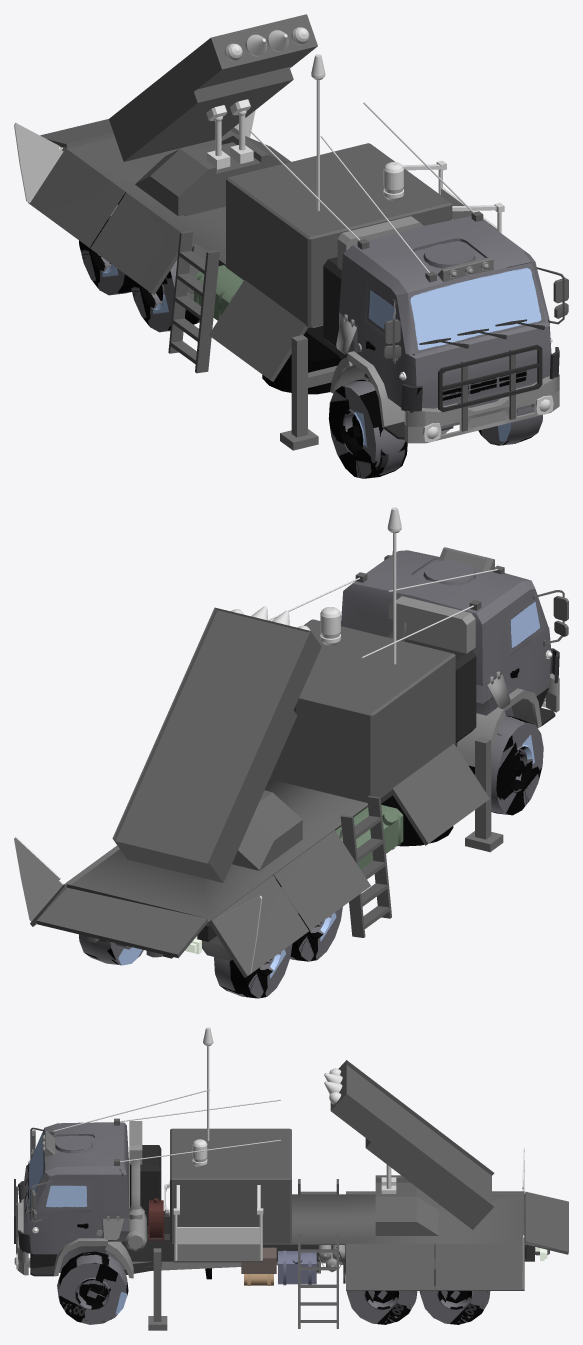
The model's file is only-ladder-deployed.fbx.
3 views of the same model, one above another, from view 1: azimuth 30°, elevation 25°; view 2: azimuth 150°, elevation 25°; view 3: azimuth 270°, elevation 25° (orthographic). The views are drawn at different scales.
Parts seen in each view (by area): view 1: Куб.131, Куб.136, Cube, Cube.002, Цилиндр.051, Cube.001, Cube.008, Куб.096, Cube.016, Cube.011, Cube.007, Цилиндр.053 (+17 smaller); view 2: Cube.002, Куб.136, Cube, Куб.131, Цилиндр.051, Cube.008, Цилиндр.059, Cube.001, Цилиндр.001, Cube.015, Cube.010, Cube.011 (+10 smaller); view 3: Куб.136, Куб.131, Cube, Cube.002, Цилиндр.051, Cube.001, Цилиндр.001, Цилиндр.053, Цилиндр.059, Куб.118, Cube.018, Cube.015 (+16 smaller).
Part boxes in pixels (x1,y1,x2,y2): Куб.131: (339, 216, 559, 428); Куб.136: (28, 119, 323, 381); Cube: (226, 143, 452, 327); Cube.002: (109, 14, 317, 161); Цилиндр.051: (328, 379, 542, 478); Cube.001: (135, 134, 290, 216); Cube.008: (168, 231, 219, 373); Куб.096: (404, 374, 559, 443); Cube.016: (280, 335, 337, 450); Cube.011: (14, 122, 63, 202); Cube.007: (438, 344, 542, 412); Цилиндр.053: (129, 260, 199, 332); Cube.002: (112, 607, 321, 882); Куб.136: (30, 743, 489, 977); Cube: (269, 619, 455, 802); Куб.131: (341, 550, 559, 743); Цилиндр.051: (469, 716, 543, 815); Cube.008: (340, 795, 391, 937); Цилиндр.059: (387, 596, 475, 653); Cube.001: (232, 790, 302, 870); Цилиндр.001: (79, 934, 292, 998); Cube.015: (404, 639, 476, 742); Cube.010: (14, 836, 63, 924); Cube.011: (214, 895, 262, 974); Куб.136: (174, 1191, 568, 1290); Куб.131: (18, 1122, 129, 1272); Cube: (170, 1128, 291, 1243); Cube.002: (330, 1060, 494, 1229); Цилиндр.051: (57, 1251, 128, 1324); Cube.001: (375, 1175, 438, 1235); Цилиндр.001: (419, 1258, 490, 1324); Цилиндр.053: (346, 1291, 417, 1324); Цилиндр.059: (124, 1121, 146, 1251); Куб.118: (121, 1211, 534, 1274); Cube.018: (176, 1227, 260, 1244); Cube.015: (129, 1145, 161, 1225).
Size of the model in its own units: 750 by 1019 by 2012.
66 materials, 2 textured.
